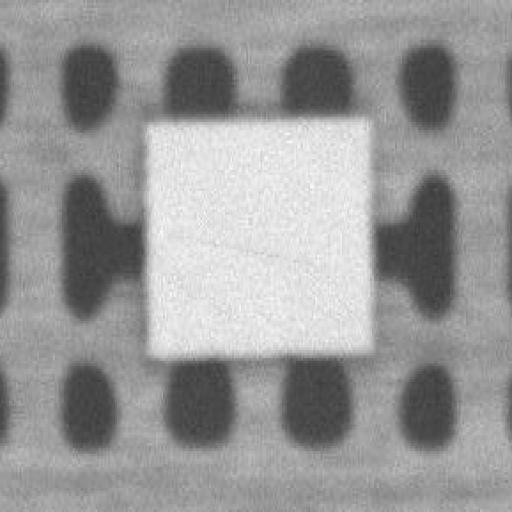DIE_CRACK: (250, 154, 464, 174)
